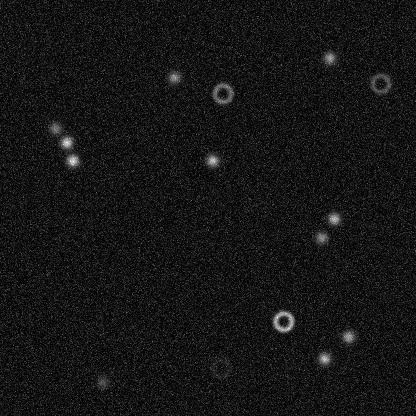Ring: (271, 309, 295, 333), (210, 81, 234, 105), (208, 356, 232, 380), (368, 71, 392, 95)
Spot: (340, 328, 356, 344), (316, 350, 332, 366), (204, 152, 220, 168), (326, 210, 342, 226), (94, 373, 110, 389), (47, 120, 63, 136), (64, 152, 80, 168), (58, 134, 74, 150), (321, 50, 337, 66), (313, 229, 329, 245), (166, 69, 182, 85)
